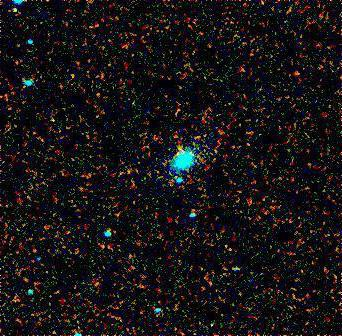star: (0, 0, 29, 26)
